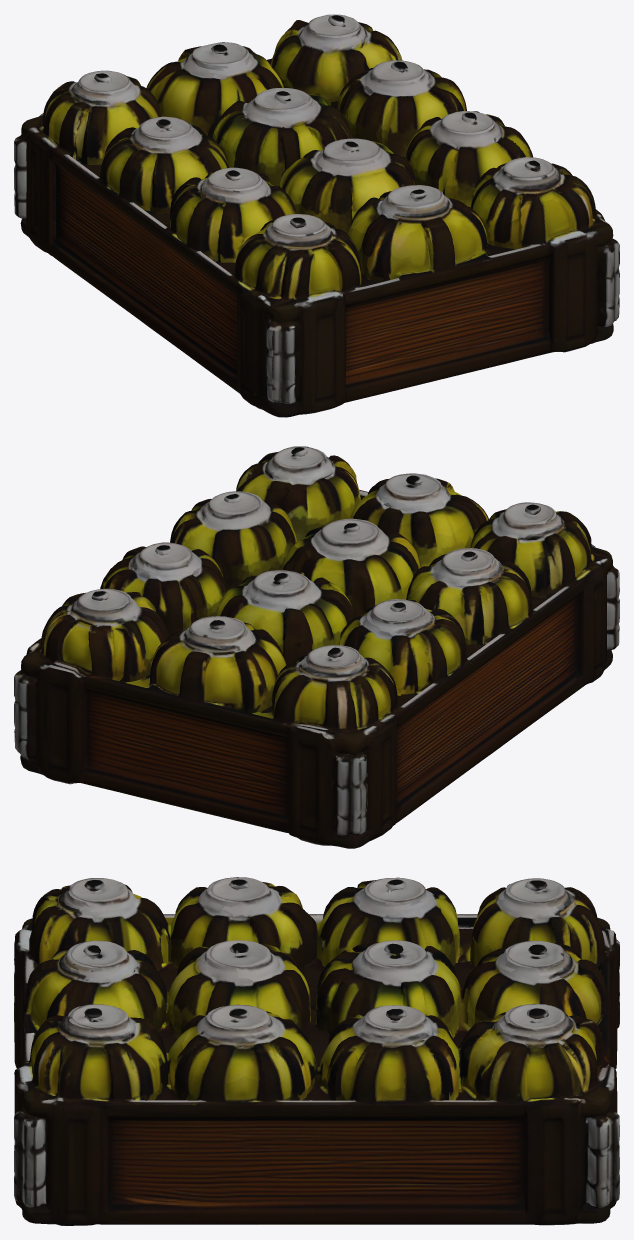
The model's file is grenade_ammo.glb.
The picture shows the model from 3 angles, top to bottom: view 1: azimuth 30°, elevation 25°; view 2: azimuth 150°, elevation 25°; view 3: azimuth 270°, elevation 25°; orthographic projection. The views are drawn at different scales.
Parts seen in each view (by area): view 1: textured_mesh.obj; view 2: textured_mesh.obj; view 3: textured_mesh.obj.
Boxes of the visible parts, bbox=[...] form: textured_mesh.obj: bbox=[14, 14, 619, 417]; textured_mesh.obj: bbox=[14, 446, 619, 848]; textured_mesh.obj: bbox=[14, 877, 619, 1225].
Bounding box in the file's own units: 1.51 × 0.7007 × 1.99.
Materials: 1 (1 with a texture image).
